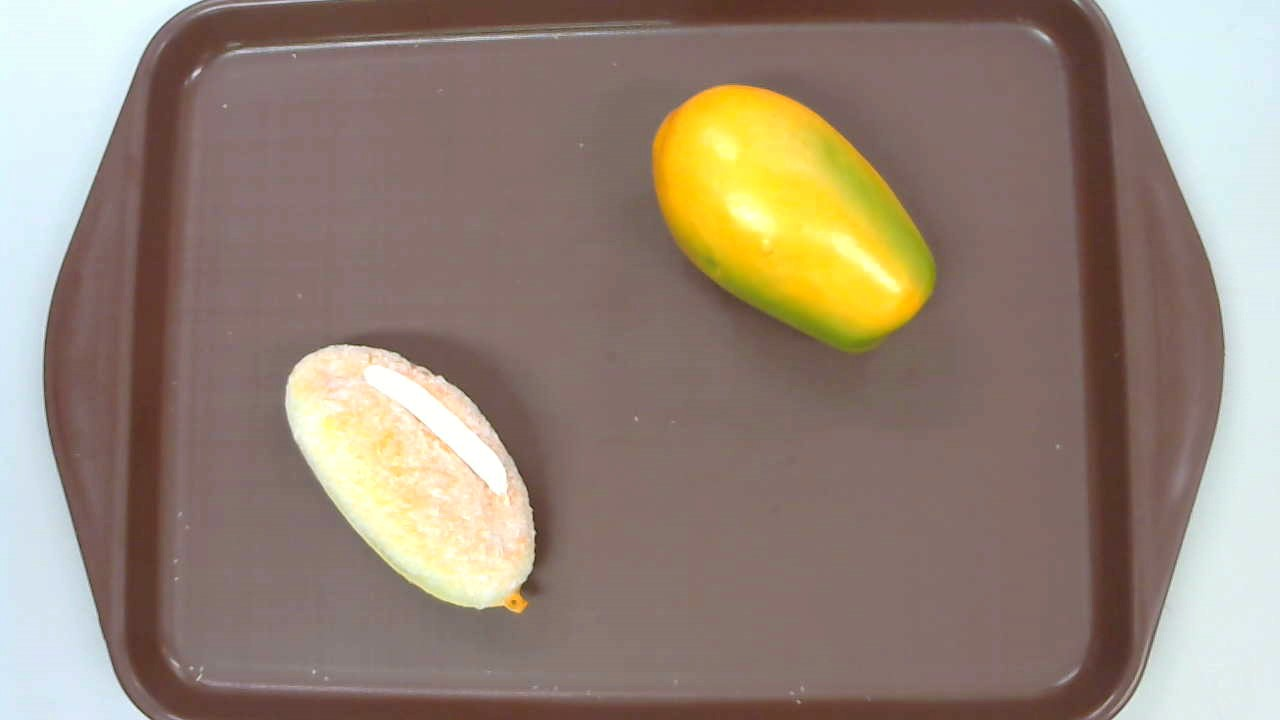coconut: (284, 341, 536, 613)
papya: (651, 84, 936, 353)
